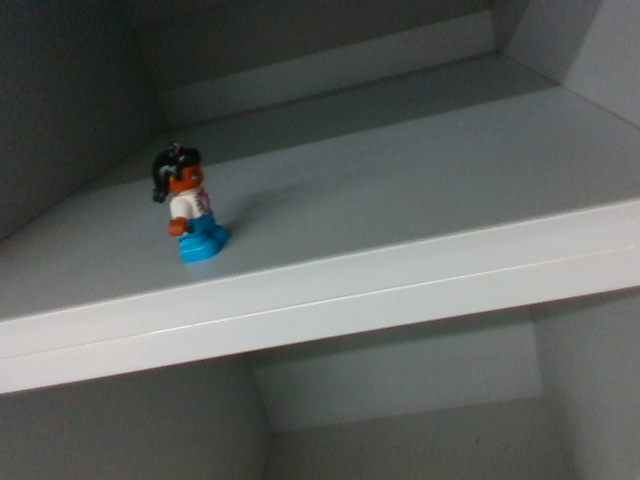people: (148, 141, 231, 263)
